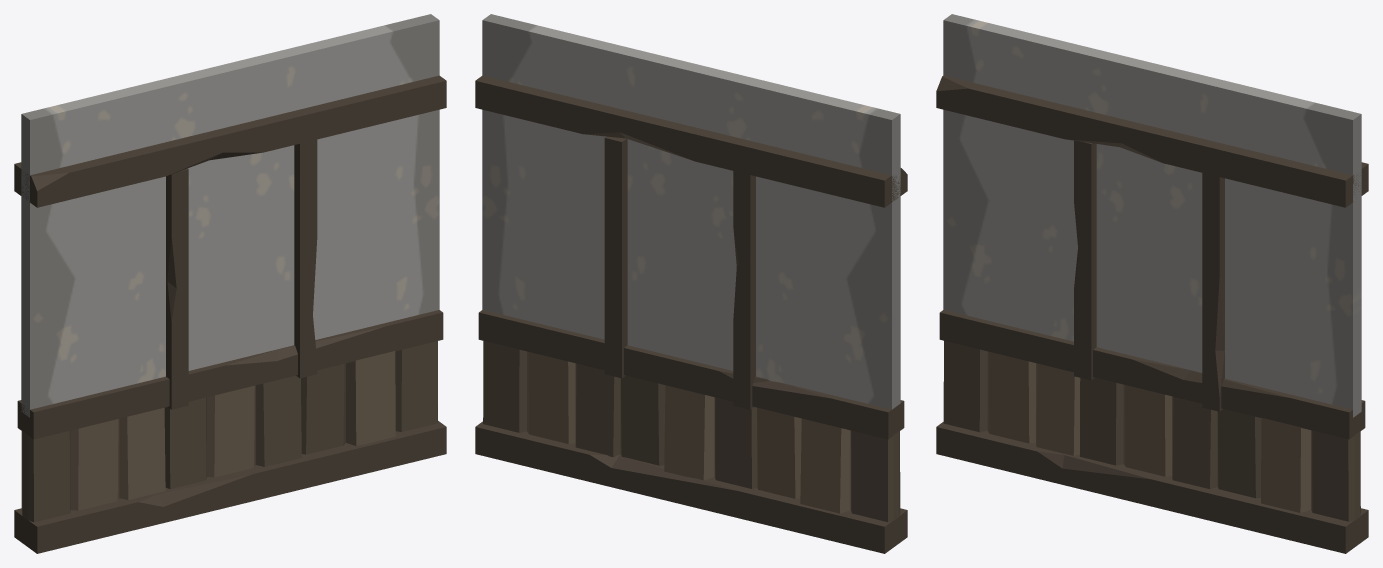
Rendered from SM_Bld_House_Wall_02.fbx.
3 renders of one model, left to right at view 1: azimuth 30°, elevation 25°; view 2: azimuth 150°, elevation 25°; view 3: azimuth 330°, elevation 25°, orthographic.
Parts seen in each view (by area): view 1: SM_Bld_House_Wall_02; view 2: SM_Bld_House_Wall_02; view 3: SM_Bld_House_Wall_02.
Boxes of the visible parts, <box> form: SM_Bld_House_Wall_02: <box>14,14,446,553</box>; SM_Bld_House_Wall_02: <box>475,14,907,553</box>; SM_Bld_House_Wall_02: <box>936,14,1368,553</box>.
Size of the model in its own units: 250 by 250 by 24.2.
